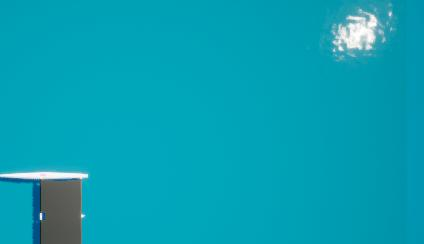boat: (0, 169, 90, 244)
drone: (41, 180, 81, 244)
land_base: (315, 3, 412, 72)
